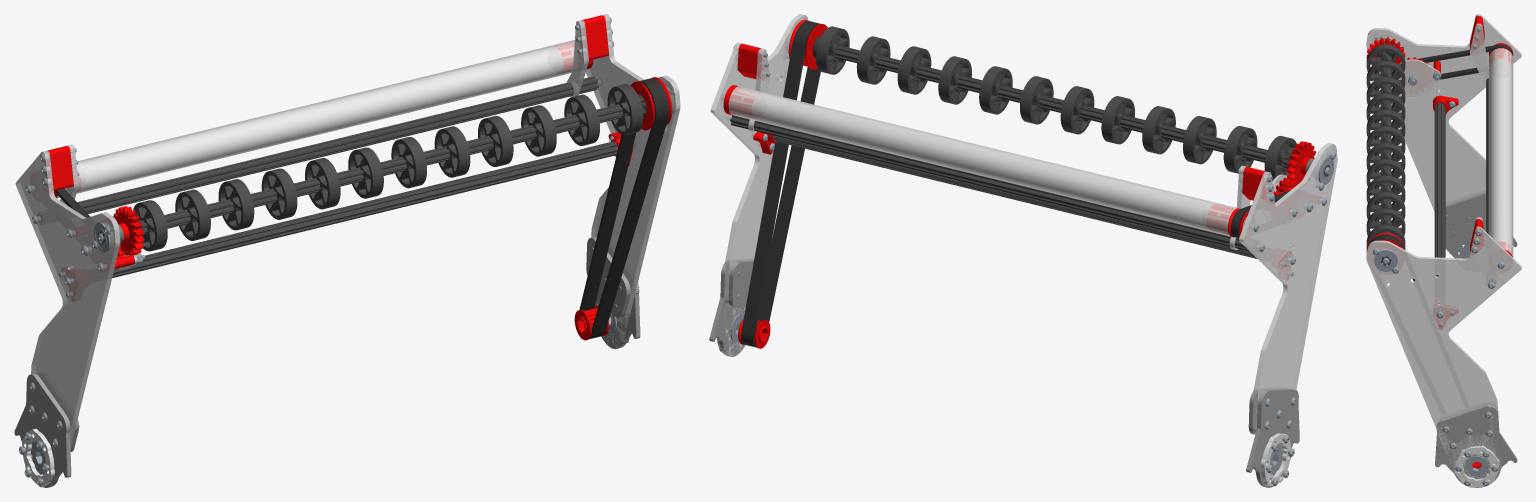
The picture shows the model from 3 angles, left to right: view 1: azimuth 30°, elevation 25°; view 2: azimuth 150°, elevation 25°; view 3: azimuth 270°, elevation 25°; orthographic projection. The views are drawn at different scales.
Parts seen in each view (by area): view 1: Lexan Tube Roller (ITK-P76), 2" 1/2" Hex Bore Flex Wheel (WCP-0133) (×12), Right Intake Plate (ITK-P51), 25.7 in. Hex Lite Shaft (ITK-P75), 25.7 in. Hex Lite Shaft (ITK-P74), Top Pivot 140T 5M 9mm Wide Belt, Left Intake Plate (ITK-P50), 26.265 in. Hex Lite Shaft (ITK-P73), Right Outer Wrist Plate (ITK-P53), Left Outer Wrist Plate (ITK-P52), 18t 10dp Spur Gear (ITK-P64), Left Sandwich Plate (ITK-P54) (+5 smaller); view 2: Lexan Tube Roller (ITK-P76), 2" 1/2" Hex Bore Flex Wheel (WCP-0133) (×12), Right Intake Plate (ITK-P51), Top Pivot 140T 5M 9mm Wide Belt, Left Intake Plate (ITK-P50), 25.7 in. Hex Lite Shaft (ITK-P75), 26.265 in. Hex Lite Shaft (ITK-P73), 25.7 in. Hex Lite Shaft (ITK-P74), Right Outer Wrist Plate (ITK-P53), Left Outer Wrist Plate (ITK-P52), Left Sandwich Plate (ITK-P54), Right Sprocket Spacer (ITK-P57) (+2 smaller); view 3: Left Intake Plate (ITK-P50), Right Intake Plate (ITK-P51), 2" 1/2" Hex Bore Flex Wheel (WCP-0133) (×12), Lexan Tube Roller (ITK-P76), Left Outer Wrist Plate (ITK-P52), 25.7 in. Hex Lite Shaft (ITK-P74), Right Sandwich Plate (ITK-P55), Gear Cover (ITK-P68), deprecated, Left Sprocket Spacer (ITK-P56), .5" Hex ID 1.125" OD Flanged Bearing (217-2734) (×2), Right Ramp Support (ITK-P59) (+10 smaller).
Boxes of the visible parts, x1,y1,x2,y2 form: Lexan Tube Roller (ITK-P76): (56,40,574,198); 2" 1/2" Hex Bore Flex Wheel (WCP-0133) (×12): (133,84,643,251); Right Intake Plate (ITK-P51): (15,150,120,446); 25.7 in. Hex Lite Shaft (ITK-P75): (37,76,598,224); 25.7 in. Hex Lite Shaft (ITK-P74): (70,141,618,286); Top Pivot 140T 5M 9mm Wide Belt: (579,78,668,339); Left Intake Plate (ITK-P50): (586,14,680,316); 26.265 in. Hex Lite Shaft (ITK-P73): (98,104,623,244); Right Outer Wrist Plate (ITK-P53): (14,373,71,487); Left Outer Wrist Plate (ITK-P52): (594,248,640,348); 18t 10dp Spur Gear (ITK-P64): (113,206,144,256); Left Sandwich Plate (ITK-P54): (586,237,630,318); Lexan Tube Roller (ITK-P76): (728,86,1237,236); 2" 1/2" Hex Bore Flex Wheel (WCP-0133) (×12): (816,26,1296,181); Right Intake Plate (ITK-P51): (1239,143,1337,434); Top Pivot 140T 5M 9mm Wide Belt: (741,20,820,347); Left Intake Plate (ITK-P50): (710,14,808,306); 25.7 in. Hex Lite Shaft (ITK-P75): (730,115,1258,251); 26.265 in. Hex Lite Shaft (ITK-P73): (834,45,1329,176); 25.7 in. Hex Lite Shaft (ITK-P74): (773,135,1290,263); Right Outer Wrist Plate (ITK-P53): (1246,389,1299,487); Left Outer Wrist Plate (ITK-P52): (709,259,753,356); Left Sandwich Plate (ITK-P54): (728,260,753,307); Right Sprocket Spacer (ITK-P57): (1260,433,1291,485); Left Intake Plate (ITK-P50): (1366,226,1521,429); Right Intake Plate (ITK-P51): (1366,14,1521,211); 2" 1/2" Hex Bore Flex Wheel (WCP-0133) (×12): (1366,44,1405,247); Lexan Tube Roller (ITK-P76): (1489,48,1513,257); Left Outer Wrist Plate (ITK-P52): (1435,404,1517,487); 25.7 in. Hex Lite Shaft (ITK-P74): (1434,102,1445,314); Right Sandwich Plate (ITK-P55): (1445,192,1485,241); Gear Cover (ITK-P68): (1391,59,1440,98); deprecated: (1437,405,1500,487); Left Sprocket Spacer (ITK-P56): (1454,445,1499,487); .5" Hex ID 1.125" OD Flanged Bearing (217-2734) (×2): (1374,250,1487,476); Right Ramp Support (ITK-P59): (1470,23,1488,85).
Size of the model in its own units: 0.6939 by 0.3724 by 0.2031.
